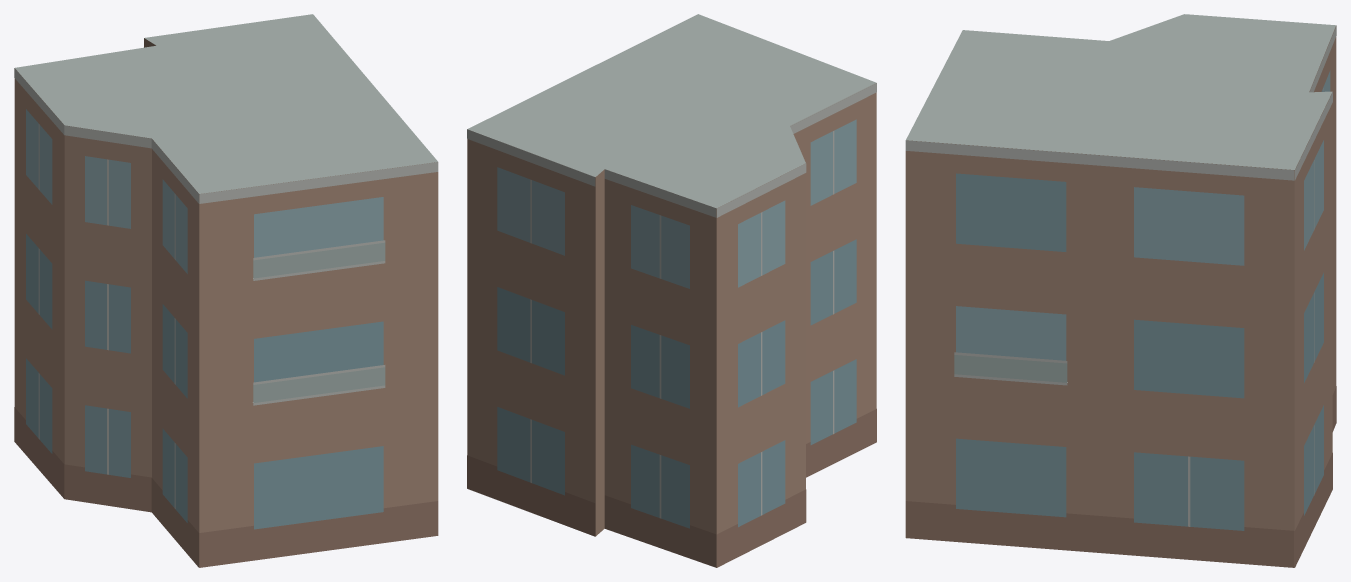
Rendered from survey-upis-32468054.glb.
The picture shows the model from 3 angles, left to right: view 1: azimuth 30°, elevation 25°; view 2: azimuth 150°, elevation 25°; view 3: azimuth 270°, elevation 25°; orthographic projection. The views are drawn at different scales.
Visible parts, largest first — view 1: survey-upis-32468054.tmp; view 2: survey-upis-32468054.tmp; view 3: survey-upis-32468054.tmp.
Part boxes in pixels (box(x1,y1,x2,y2)): survey-upis-32468054.tmp: box(14, 14, 438, 567); survey-upis-32468054.tmp: box(467, 14, 876, 567); survey-upis-32468054.tmp: box(905, 14, 1336, 567).
Bounding box in the file's own units: 7.71 × 9.15 × 8.99.
